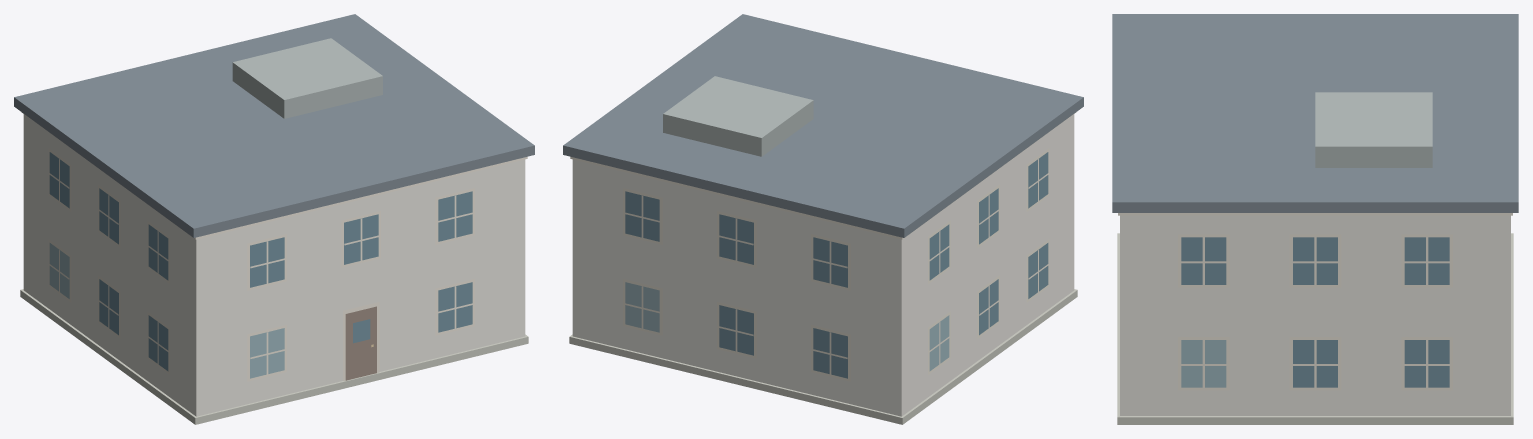
Rendered from house-modern-flat.glb.
The picture shows the model from 3 angles, left to right: view 1: azimuth 30°, elevation 25°; view 2: azimuth 150°, elevation 25°; view 3: azimuth 270°, elevation 25°; orthographic projection. The views are drawn at different scales.
Parts seen in each view (by area): view 1: house-modern-flat; view 2: house-modern-flat; view 3: house-modern-flat.
Part boxes in pixels (<box>): house-modern-flat: <box>14,14,534,424</box>; house-modern-flat: <box>563,14,1083,424</box>; house-modern-flat: <box>1112,14,1518,424</box>.
Bounding box in the file's own units: 11.4 × 6.95 × 10.4.
